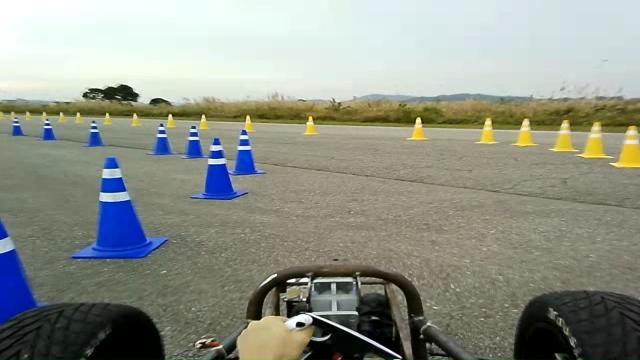blue cone: (70, 156, 168, 259), (0, 219, 39, 325), (189, 137, 248, 200), (228, 129, 266, 175), (145, 123, 179, 155), (181, 125, 208, 159), (82, 120, 106, 147), (39, 120, 57, 140), (10, 117, 26, 136)
yellow cone: (575, 121, 613, 159), (609, 125, 639, 168), (548, 119, 579, 152), (510, 117, 539, 147), (474, 117, 499, 144), (406, 116, 428, 140), (302, 115, 319, 135), (244, 114, 255, 132), (130, 112, 142, 126), (198, 114, 209, 129), (166, 112, 176, 127), (103, 112, 112, 125), (74, 112, 84, 123), (57, 112, 67, 122), (24, 111, 33, 120), (41, 111, 48, 121), (0, 111, 5, 119)
